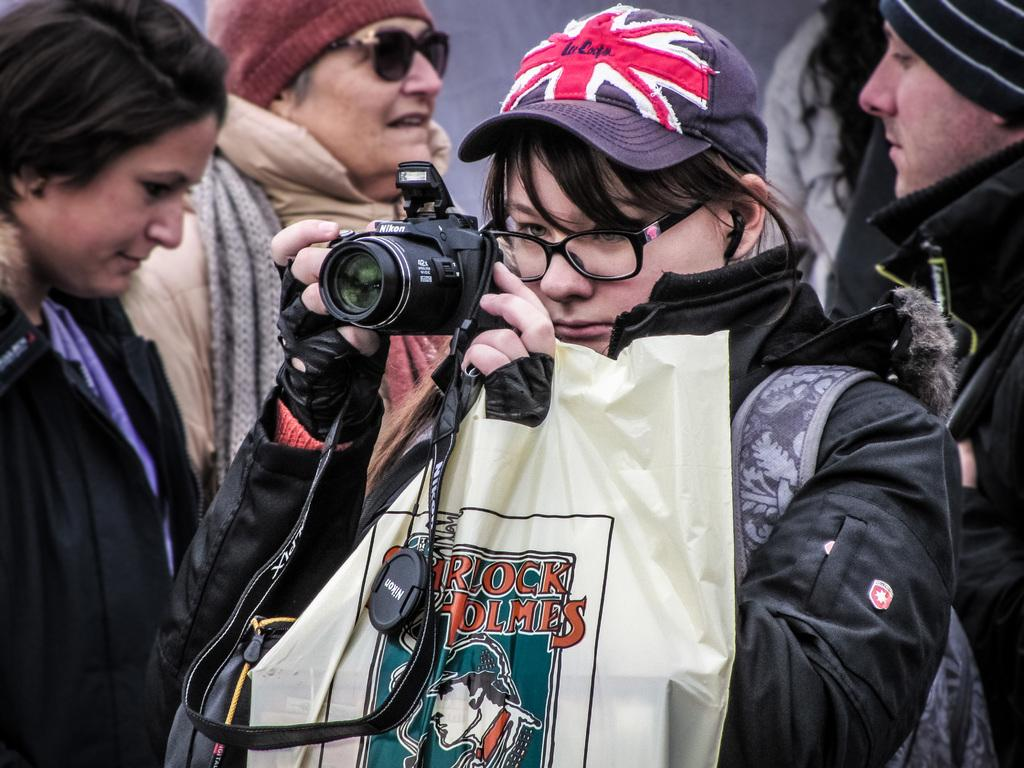Hat: (454, 1, 770, 174)
